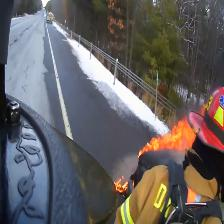fire: (98, 87, 201, 198)
nofire: (197, 63, 224, 169)
